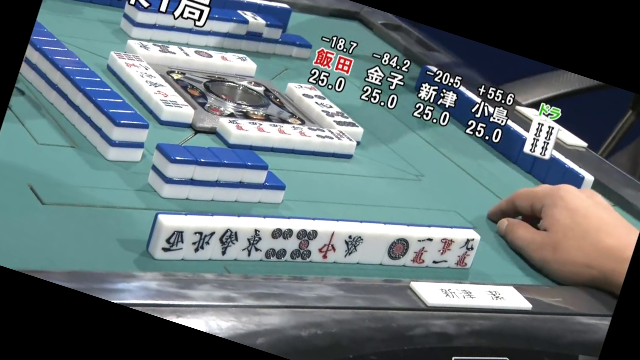Tehai: (144, 204, 481, 274)
